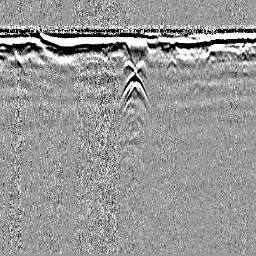cavity: (122, 58, 136, 74)
